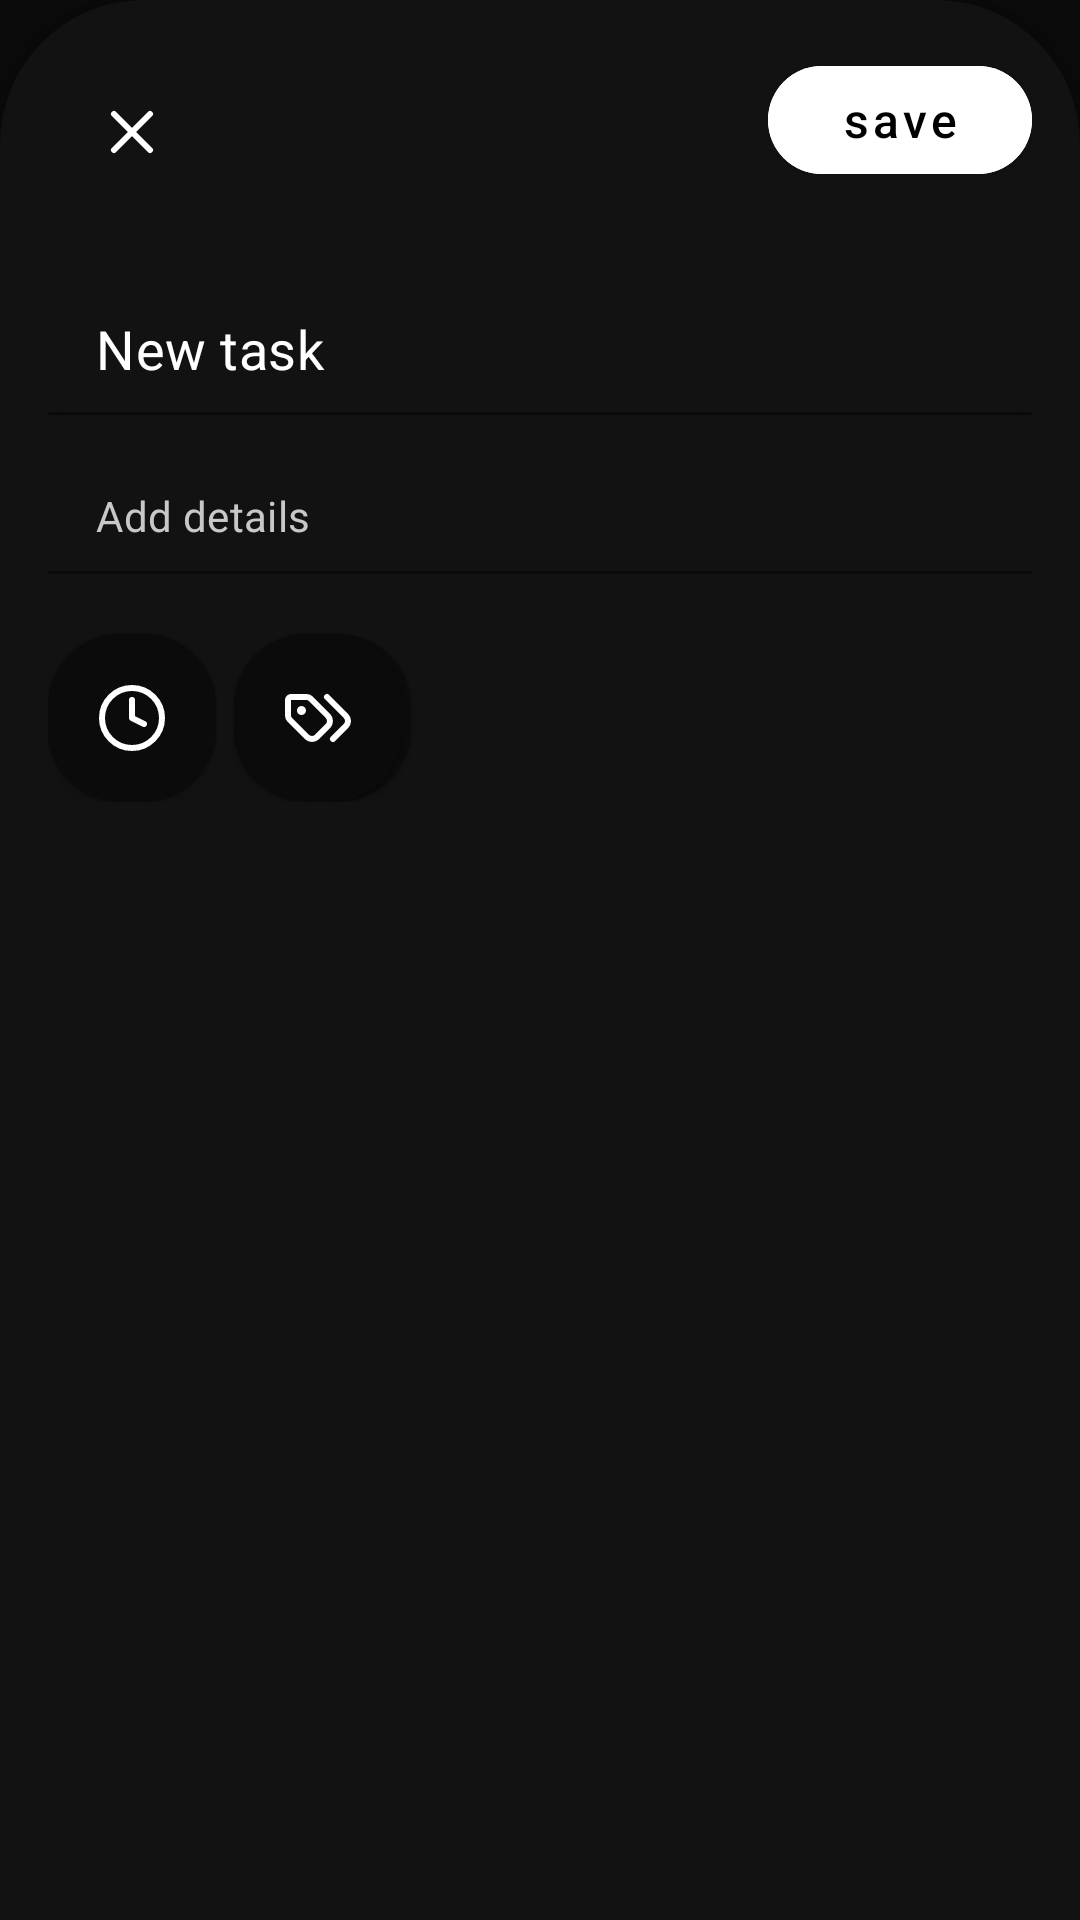

Icon click points for this 1080px×1920px phone screenshot, format [x,y]:
clock: [132,718]
tags: [318,718]
